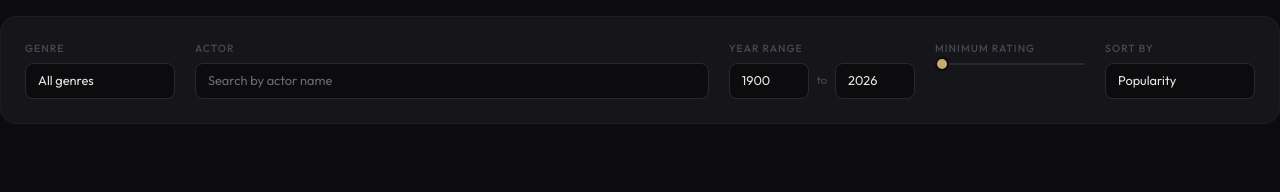
it: FilterPanel › clears all filters when Clear all is clicked
The image size is (1280, 192).
Select "Action" in the dropdown labelled "Genre". click: coordinates (100, 81)
box: 25,63 -> 175,99
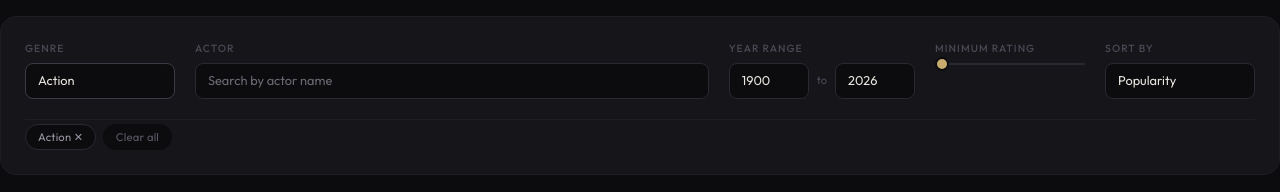
Click the button "Clear all". click: coordinates (137, 137)
box: 103,124 -> 172,150
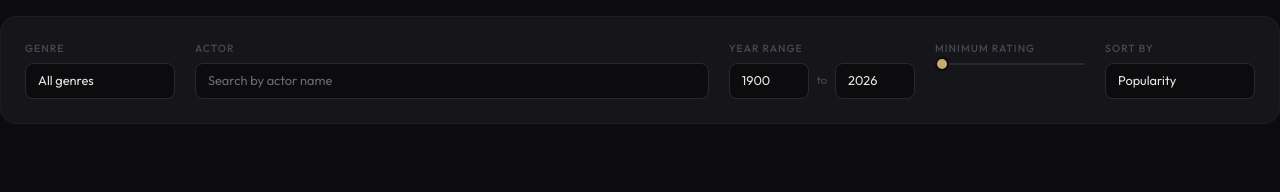
Expected: the button "Action" is gone
